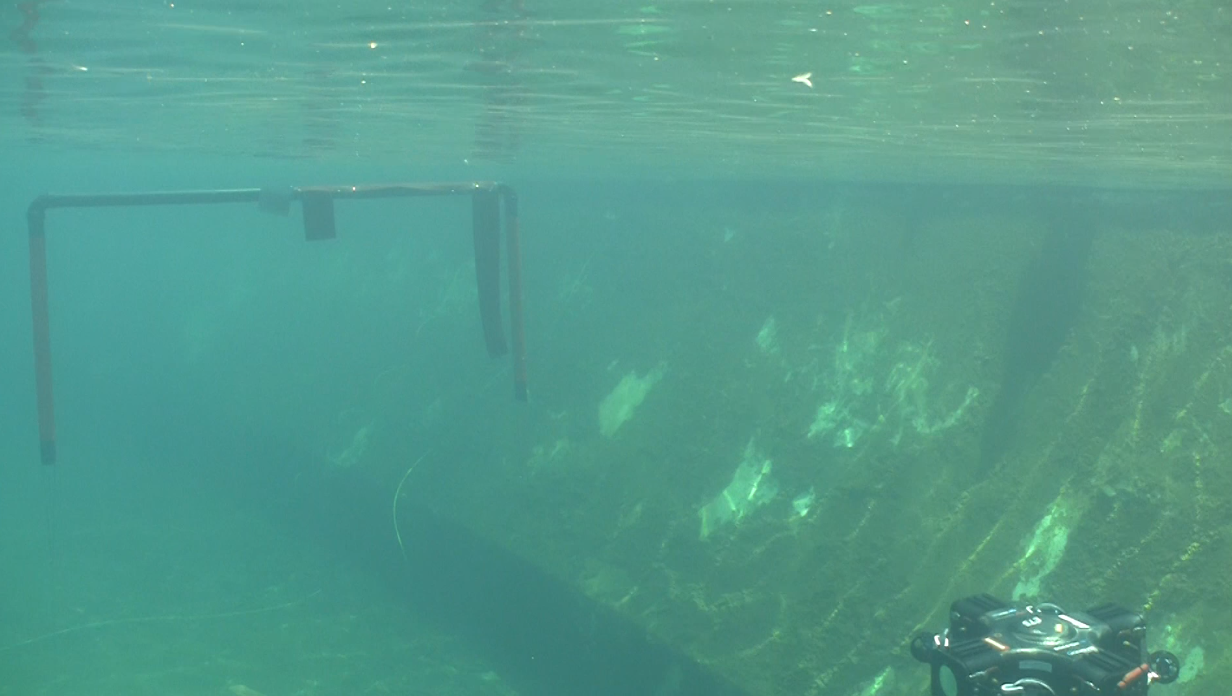gate: (18, 172, 544, 476)
